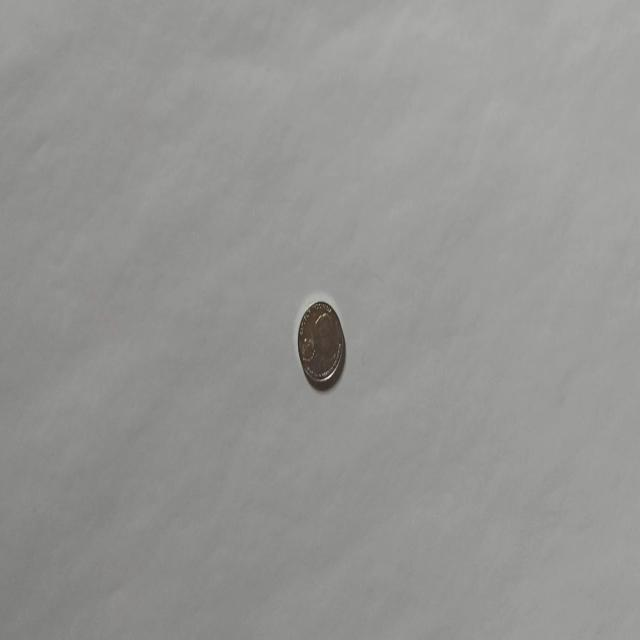seratus rupiah: (296, 298, 346, 386)
